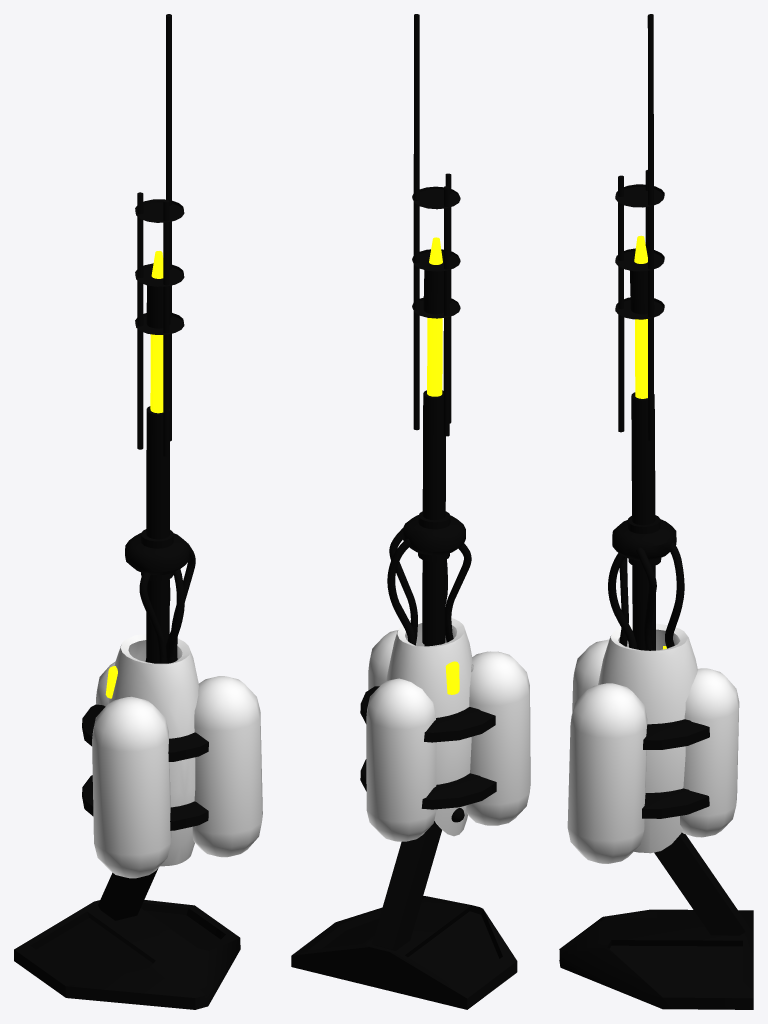
Rendered from Key.fbx.
The picture shows the model from 3 angles, left to right: view 1: azimuth 30°, elevation 25°; view 2: azimuth 150°, elevation 25°; view 3: azimuth 270°, elevation 25°; orthographic projection. The views are drawn at different scales.
Visible parts, largest first — view 1: s.100396_Mirrored.003; view 2: s.100396_Mirrored.003; view 3: s.100396_Mirrored.003.
Part boxes in pixels (x1,y1,x2,y2): s.100396_Mirrored.003: [14, 14, 262, 1009]; s.100396_Mirrored.003: [291, 14, 530, 1009]; s.100396_Mirrored.003: [559, 14, 753, 1009].
Bounding box in the file's own units: 38.37 × 194 × 35.75.
